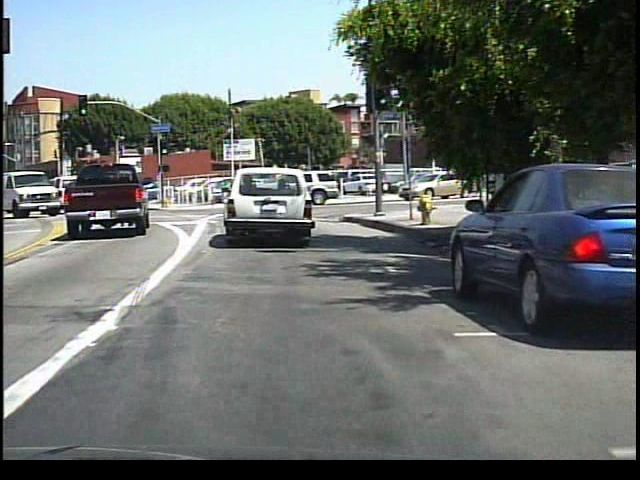person: (373, 166, 390, 203)
